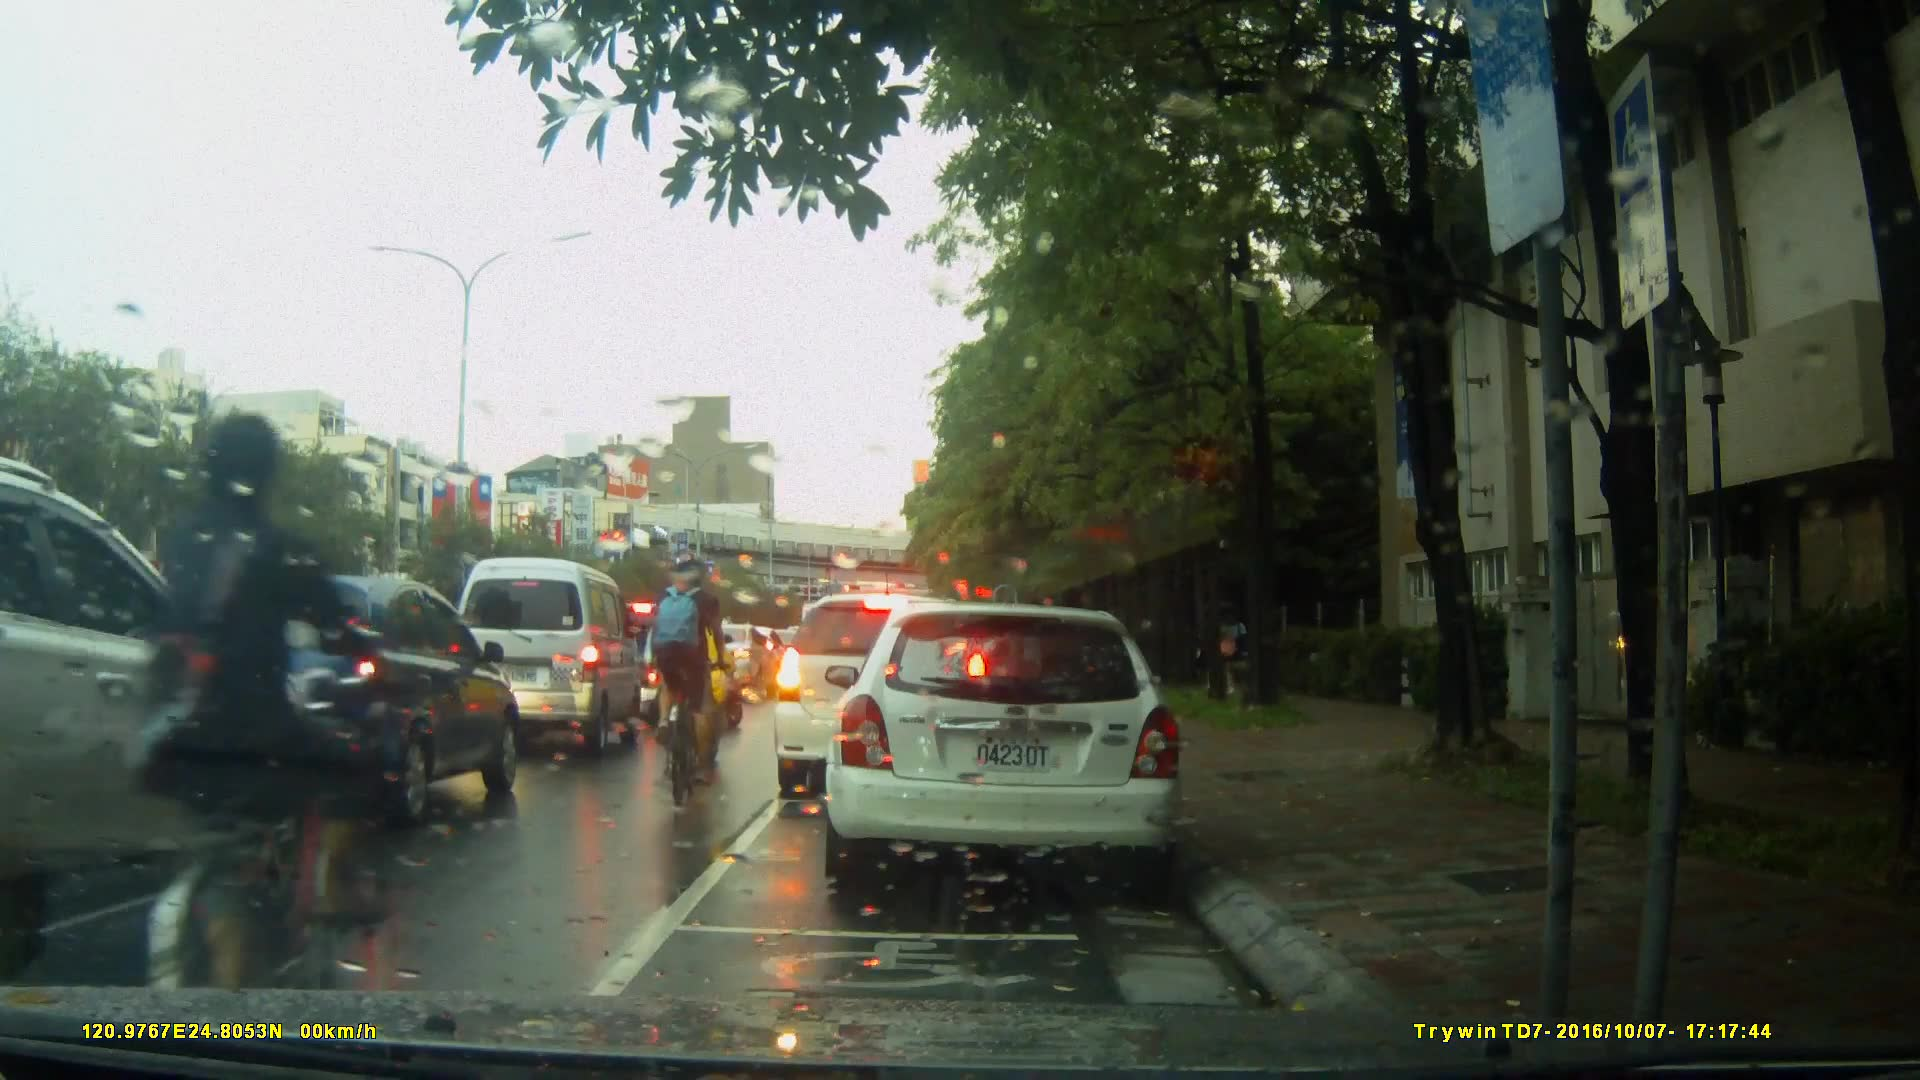rider: (139, 419, 386, 1028), (662, 554, 725, 811), (653, 595, 727, 770)
vehicle: (1, 445, 327, 987), (815, 593, 1204, 909), (178, 573, 529, 831), (770, 591, 993, 800), (445, 557, 649, 764), (599, 599, 741, 718)
